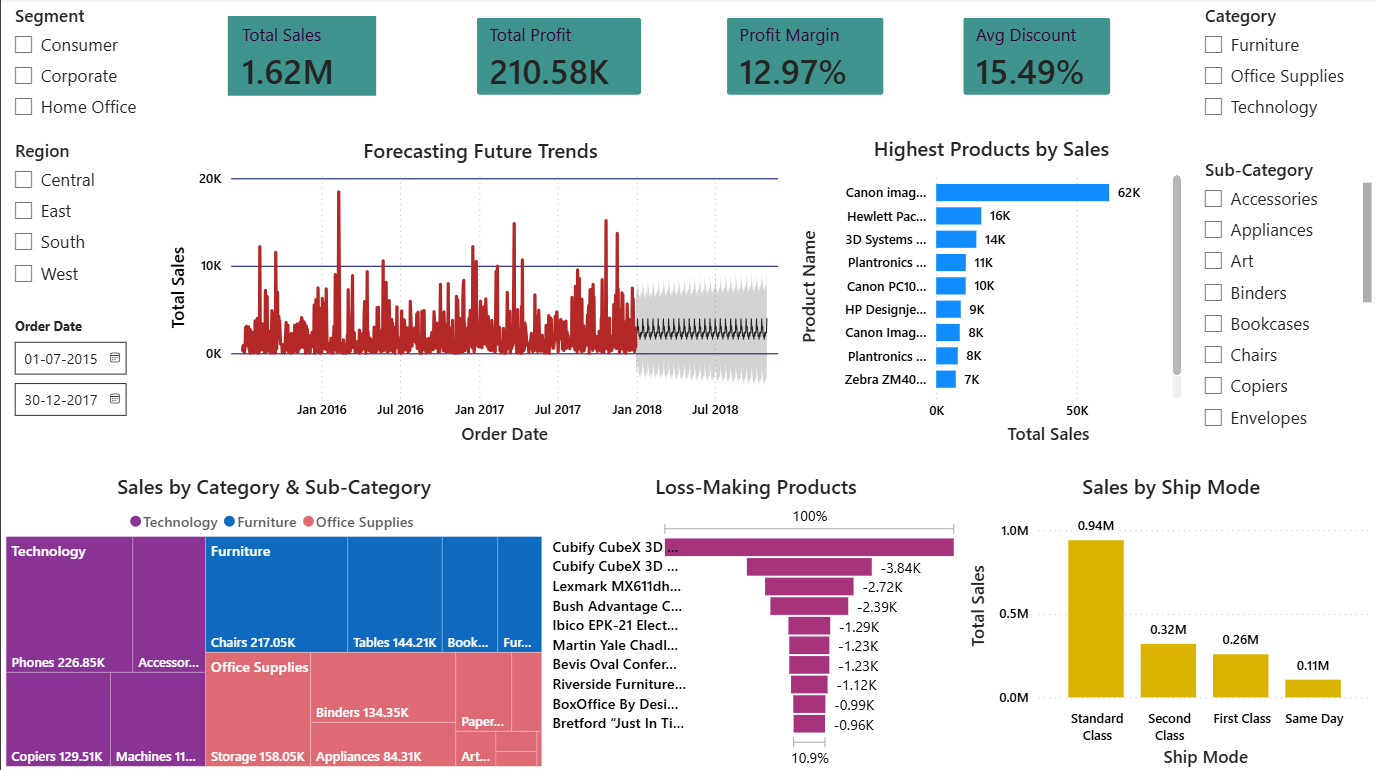

This screenshot's page, from the dashboard's own definition file:
{"tool":"powerbi","page":{"name":"Sales Forecast & Business Insights","canvas":[1280,720],"ordinal":1},"visuals":[{"type":"slicer","fields":{"Values":["Superstore.Category"]},"box":[1107.2,0,172.5,140.6],"z":0},{"type":"slicer","fields":{"Values":["Superstore.Segment"]},"box":[0,0,172.5,129],"z":1000},{"type":"slicer","fields":{"Values":["Superstore.Region"]},"box":[0,126.1,172.5,150.7],"z":2000},{"type":"slicer","fields":{"Values":["Superstore.Sub-Category"]},"box":[1107.4,142.7,172.9,267.6],"z":3000},{"type":"cardVisual","title":"Total Sales","fields":{"Data":["Superstore.Total Sales"]},"box":[194.2,0,172.5,108.7],"z":4000},{"type":"cardVisual","title":"Total Sales","fields":{"Data":["Superstore.Avg Discount"]},"box":[876.7,0,173.3,108.1],"z":5000},{"type":"cardVisual","title":"Total Sales","fields":{"Data":["Superstore.Profit Margin"]},"box":[657,0,182.6,108.1],"z":6000},{"type":"cardVisual","title":"Total Sales","fields":{"Data":["Superstore.Total Profit"]},"box":[424.6,0,189.9,108.7],"z":7000},{"type":"barChart","title":"Highest Products by Sales","fields":{"Category":["Superstore.Product Name"],"Y":["Superstore.Total Sales"]},"box":[739.6,126.2,363.6,293.7],"z":8000},{"type":"treemap","title":"Sales by Category & Sub-Category","fields":{"Group":["Superstore.Category"],"Details":["Superstore.Sub-Category"],"Values":["Superstore.Total Sales"]},"box":[0,441.9,508.1,277.9],"z":9000},{"type":"lineChart","title":"Forecasting Future Trends","fields":{"Y":["Superstore.Total Sales"],"Category":["Superstore.Order Date"]},"box":[152.3,129,587.3,290.9],"z":10000},{"type":"slicer","title":"Order Date","fields":{"Values":["Superstore.Order Date"]},"box":[0,291.3,152.2,102.9],"z":11000},{"type":"funnel","title":"Loss-Making Products","fields":{"Category":["Superstore.Product Name"],"Y":["Superstore.Total Profit"]},"box":[508.1,441.9,388.4,277.9],"z":12000},{"type":"clusteredColumnChart","title":"Sales by Ship Mode","fields":{"Category":["Superstore.Ship Mode"],"Y":["Superstore.Total Sales"]},"box":[896.1,441.9,384.2,278.6],"z":13000}]}

Visuals, with their boxes in screenshot pixels (x1, y1, x2, y2), scaled from the page's 1280x720 canvas onto the 1375x770 screenshot:
slicer - Superstore.Category: 1189:0:1374:150
slicer - Superstore.Segment: 0:0:185:138
slicer - Superstore.Region: 0:135:185:296
slicer - Superstore.Sub-Category: 1190:153:1374:439
"Total Sales" cardVisual: 209:0:394:116
"Total Sales" cardVisual: 942:0:1128:116
"Total Sales" cardVisual: 706:0:902:116
"Total Sales" cardVisual: 456:0:660:116
"Highest Products by Sales" barChart: 794:135:1185:449
"Sales by Category & Sub-Category" treemap: 0:473:546:769
"Forecasting Future Trends" lineChart: 164:138:794:449
"Order Date" slicer: 0:312:163:422
"Loss-Making Products" funnel: 546:473:963:769
"Sales by Ship Mode" clusteredColumnChart: 963:473:1374:769
